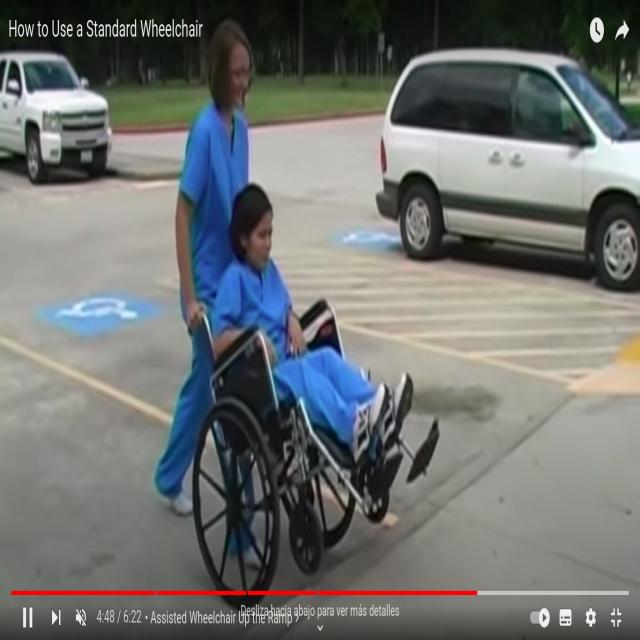wheelchairs: (181, 292, 400, 582)
